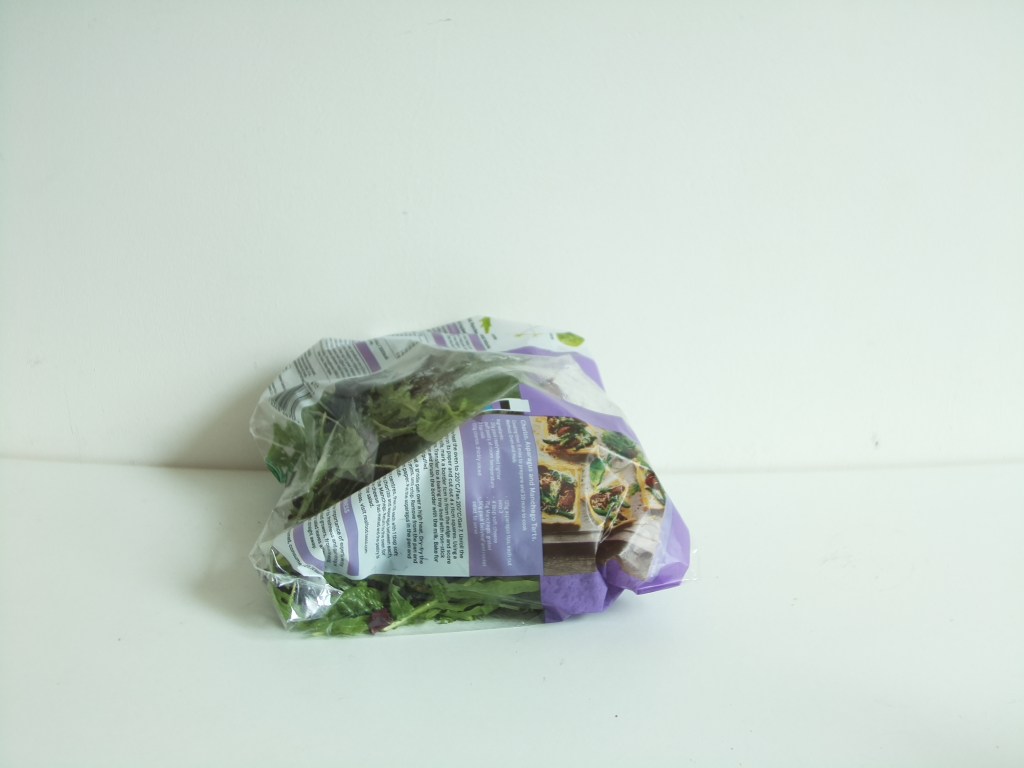salad: (252, 319, 694, 642)
